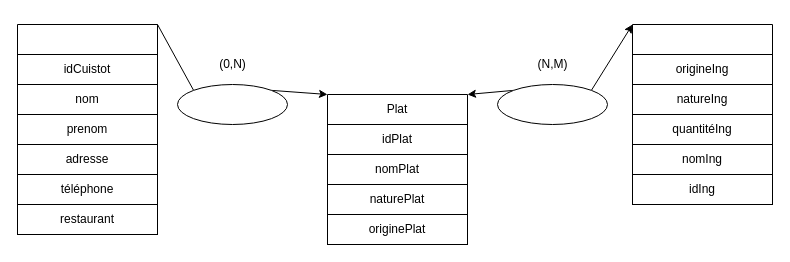
Some shapes in this 790 by 262 pixel diagram are drawn without their labels. The box of each missing label's shape, as (x1, y1, x2, y2) in pixels:
Chef Cuisinier: (16, 24, 158, 234)
Contient: (496, 84, 608, 124)
Ingrédient: (632, 24, 772, 204)
Prépare: (176, 84, 288, 124)
